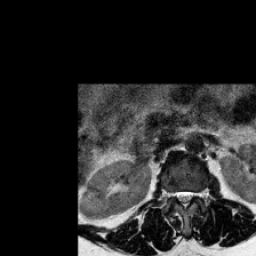CCS_normal: (181, 182, 186, 216)
LFS_stenosis: (194, 183, 201, 204)
LLS_normal: (186, 184, 194, 206)
RFS_normal: (167, 182, 174, 204)
RLS_normal: (174, 184, 181, 207)
